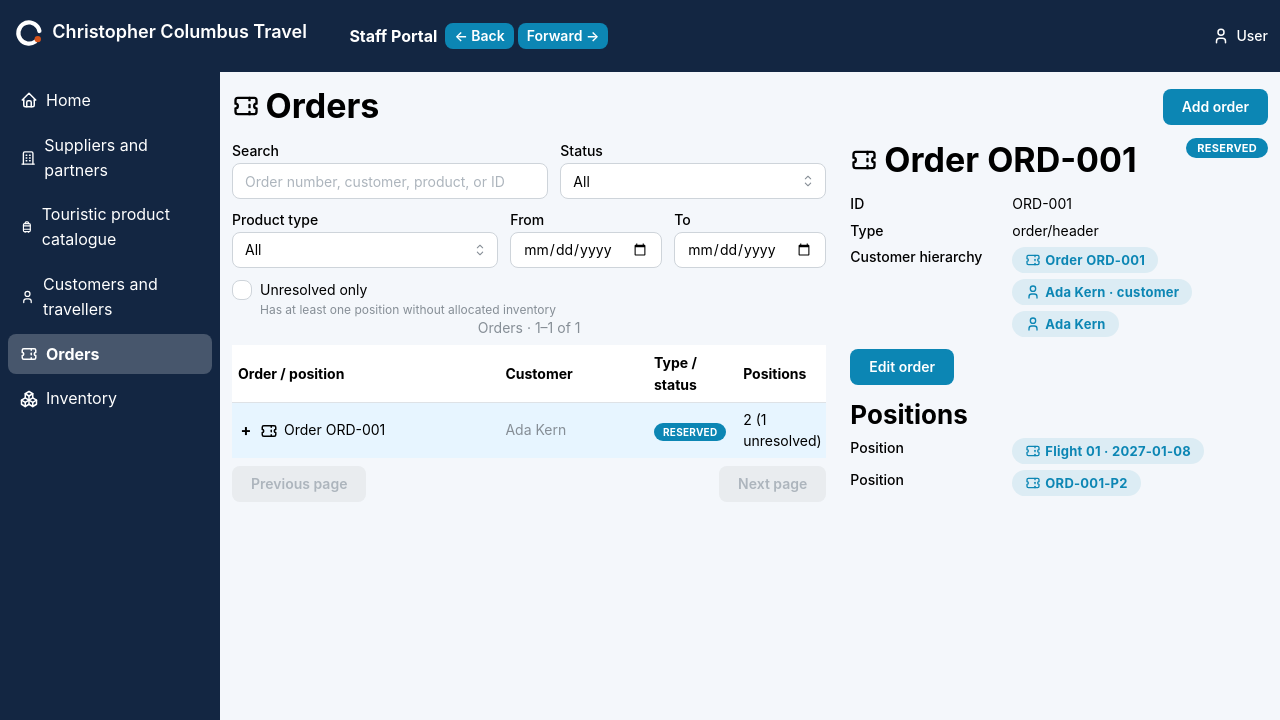
Test: OrdersRoute › expands an order to reveal its positions, showing an unresolved one distinctly
Step 1. Click the button named "expand order ORD-001" → (246, 431), box [238, 418, 254, 443]
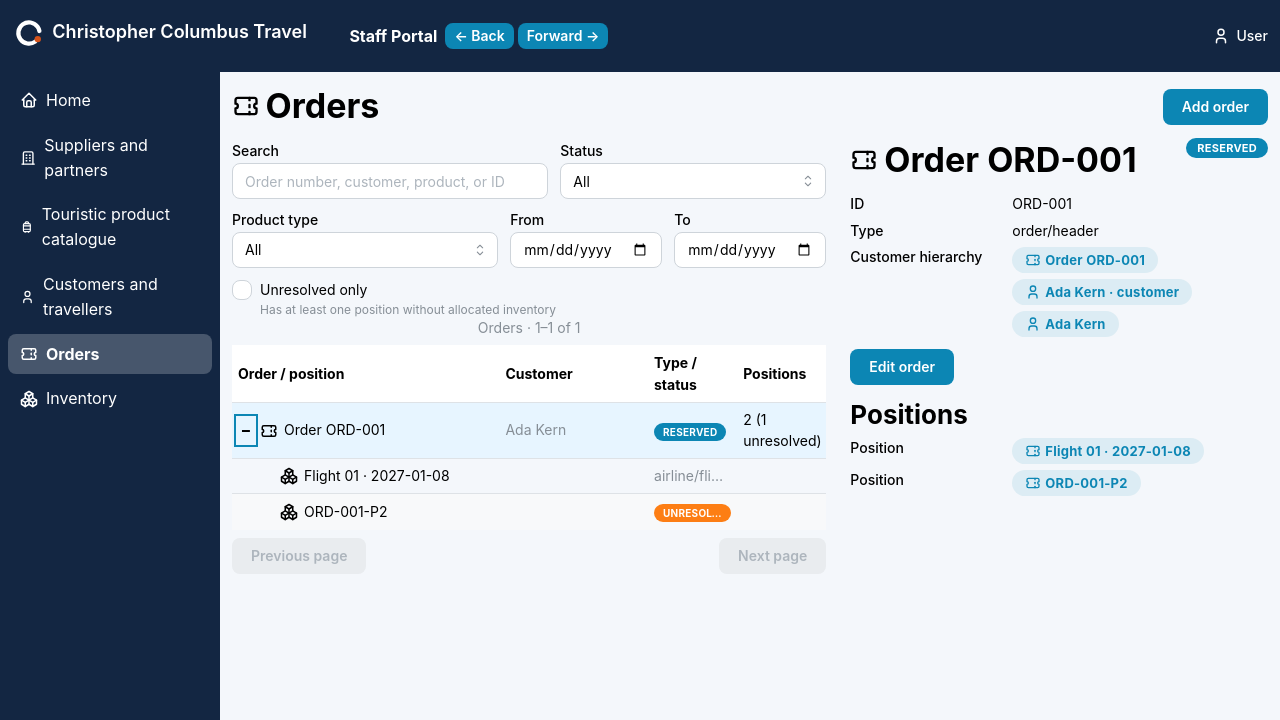
Expected: the text "Flight 01 · 2027-01-08" is shown, [304, 466, 450, 486]
Expected: the text "Unresolved" is shown, [663, 505, 722, 521]
